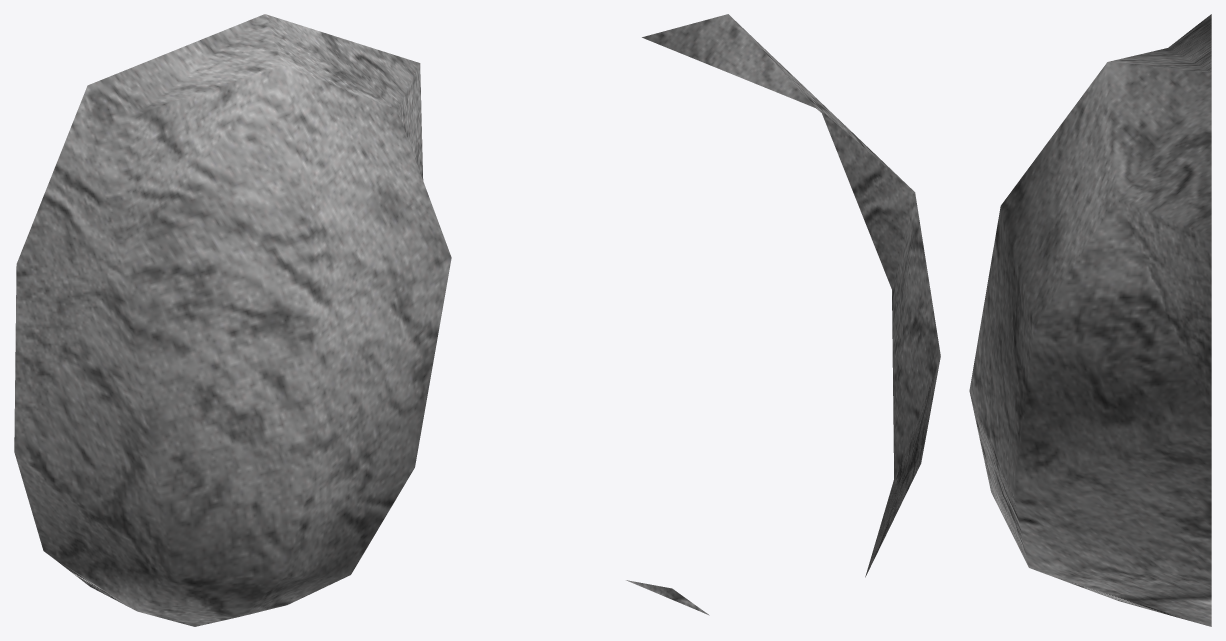
File: big_stone2.gltf
3 renders of one model, left to right at view 1: azimuth 30°, elevation 25°; view 2: azimuth 150°, elevation 25°; view 3: azimuth 270°, elevation 25°, orthographic.
Parts seen in each view (by area): view 1: something; view 2: something; view 3: something.
Part boxes in pixels (bbox=[...]): something: bbox=[14, 14, 451, 626]; something: bbox=[626, 14, 940, 615]; something: bbox=[969, 14, 1211, 626].
Bounding box in the file's own units: 1.74 × 2.25 × 0.8805.
Materials: 1 (1 with a texture image).
